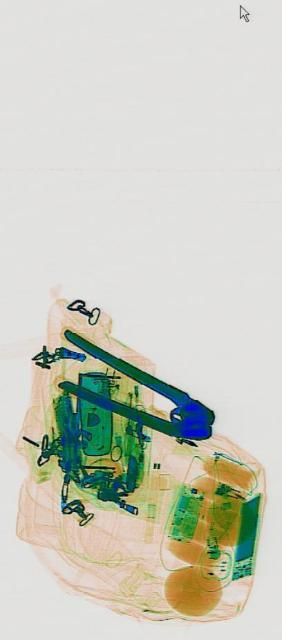Pliers: (56, 326, 214, 456)
